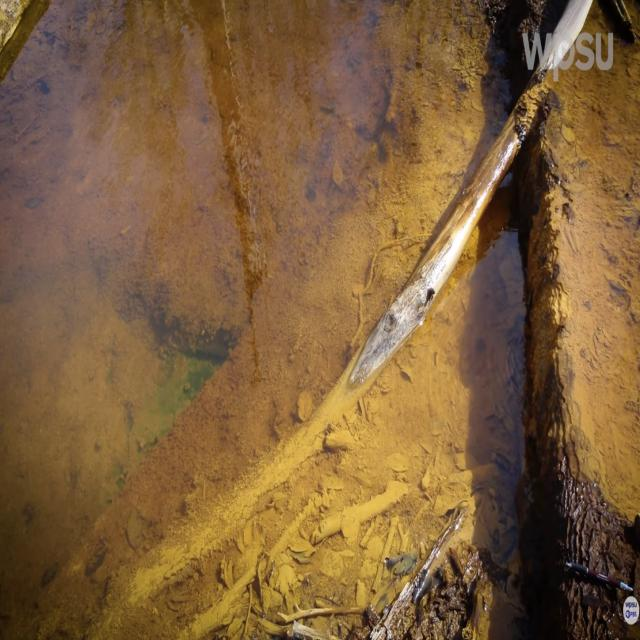yellow_boy: (0, 0, 507, 637), (366, 196, 523, 559), (283, 534, 373, 604)
